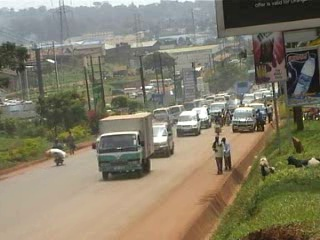Car: (148, 119, 176, 162), (174, 105, 202, 139), (191, 103, 212, 128), (225, 97, 242, 112)
Motorcycle: (44, 133, 68, 167), (215, 107, 225, 127), (225, 107, 232, 126), (214, 111, 223, 123)
